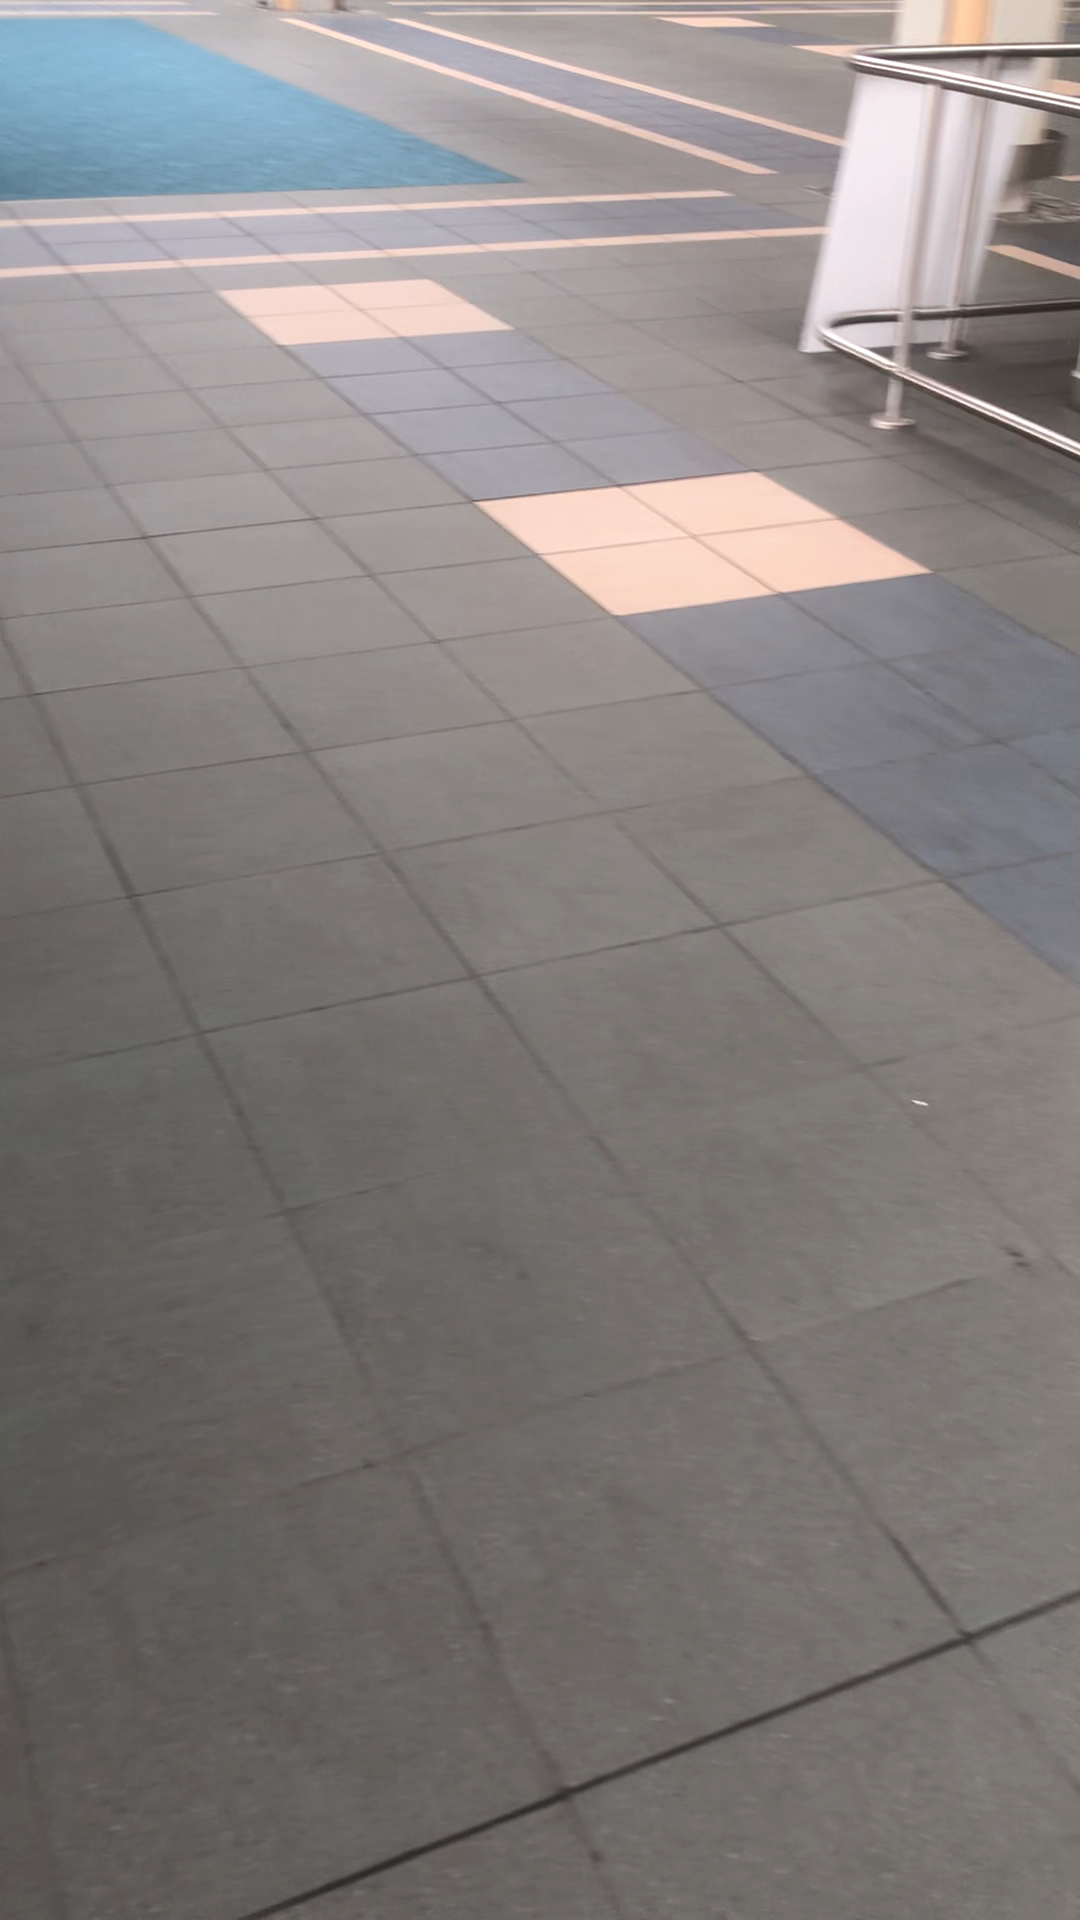Garbage: (907, 1083, 943, 1122)
